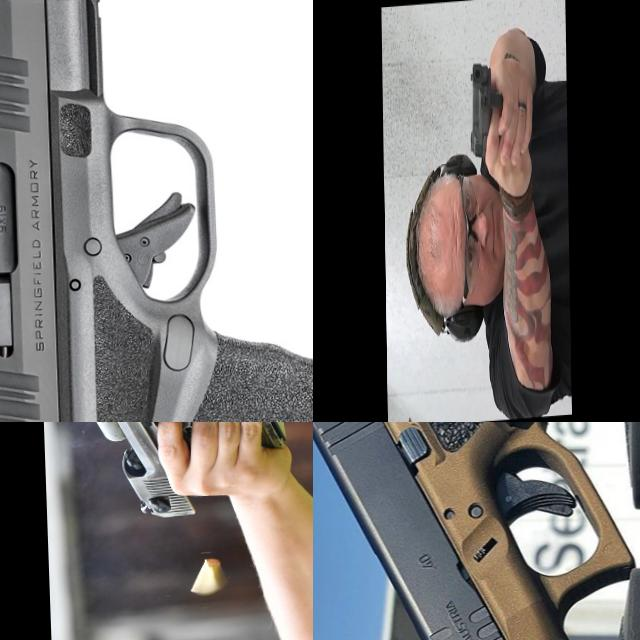handgun: (0, 0, 313, 422), (313, 422, 640, 640), (40, 422, 292, 522), (468, 57, 511, 161)
